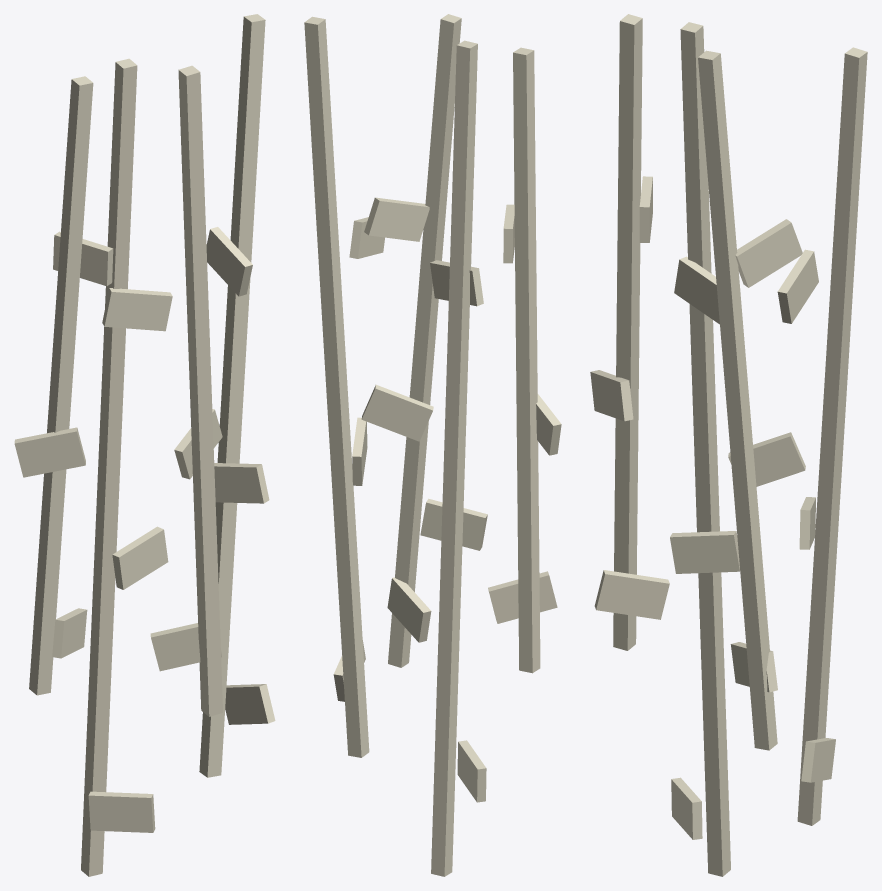
Rendered from env_vine.glb.
3 views of the same model, side by side, from view 1: azimuth 30°, elevation 25°; view 2: azimuth 150°, elevation 25°; view 3: azimuth 330°, elevation 25° (orthographic). The views are drawn at different scales.
Visible parts, largest first — view 1: tint_vine; view 2: tint_vine; view 3: tint_vine.
Boxes of the visible parts, x1,y1,x2,y2 form: tint_vine: (14,14,275,876); tint_vine: (304,14,561,876); tint_vine: (590,14,867,876).
Bounding box in the file's own units: 0.9142 × 2.86 × 0.3848.
1 material, 1 textured.
